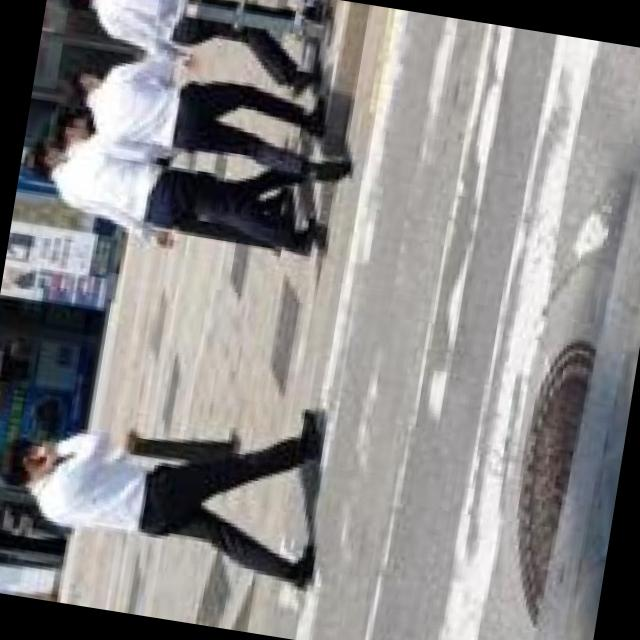zebra: (224, 0, 640, 640)
